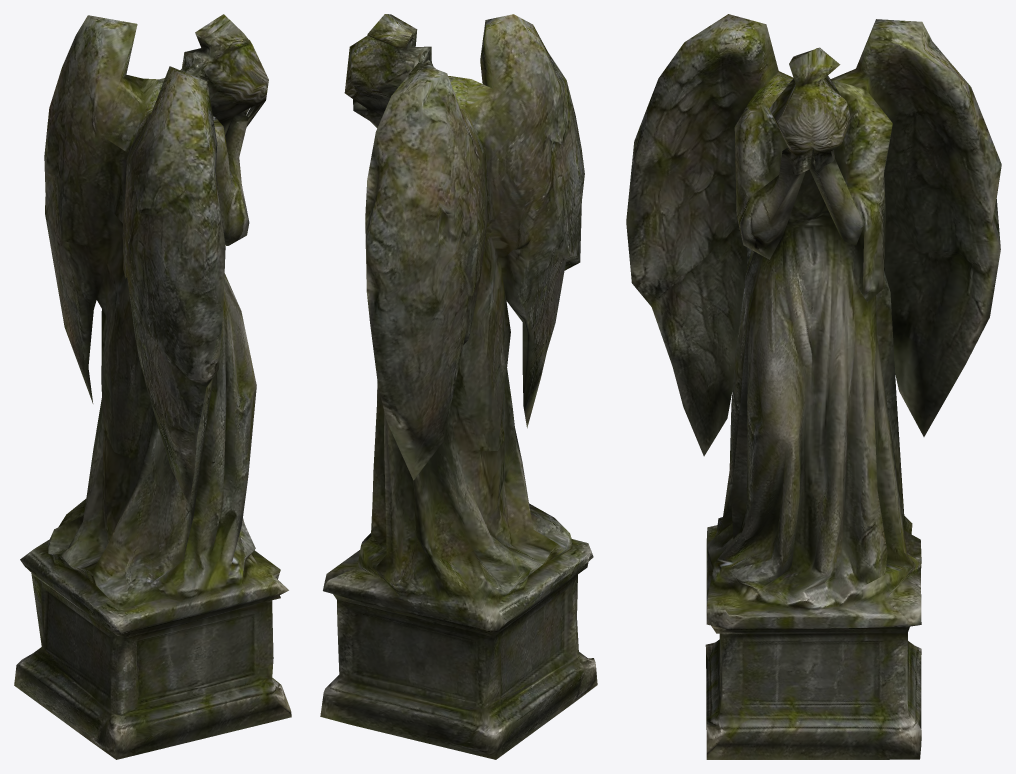
File: angel.glb
3 views of the same model, side by side, from view 1: azimuth 30°, elevation 25°; view 2: azimuth 150°, elevation 25°; view 3: azimuth 270°, elevation 25° (orthographic). The views are drawn at different scales.
Visible parts, largest first — view 1: tripo_node_4b2f7943-f412-42fd-9d4a-fd0f94d7d139; view 2: tripo_node_4b2f7943-f412-42fd-9d4a-fd0f94d7d139; view 3: tripo_node_4b2f7943-f412-42fd-9d4a-fd0f94d7d139.
Boxes of the visible parts, box(x1,y1,x2,y2) form: tripo_node_4b2f7943-f412-42fd-9d4a-fd0f94d7d139: box(14, 14, 291, 759); tripo_node_4b2f7943-f412-42fd-9d4a-fd0f94d7d139: box(320, 14, 597, 759); tripo_node_4b2f7943-f412-42fd-9d4a-fd0f94d7d139: box(626, 14, 1001, 759).
Bounding box in the file's own units: 0.3142 × 1 × 0.4837.
1 material, 1 textured.
